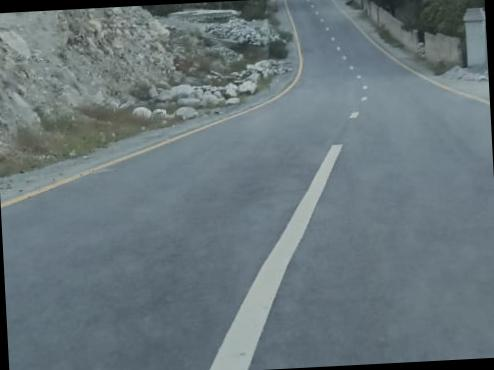sharp_turn: (284, 0, 409, 182)
